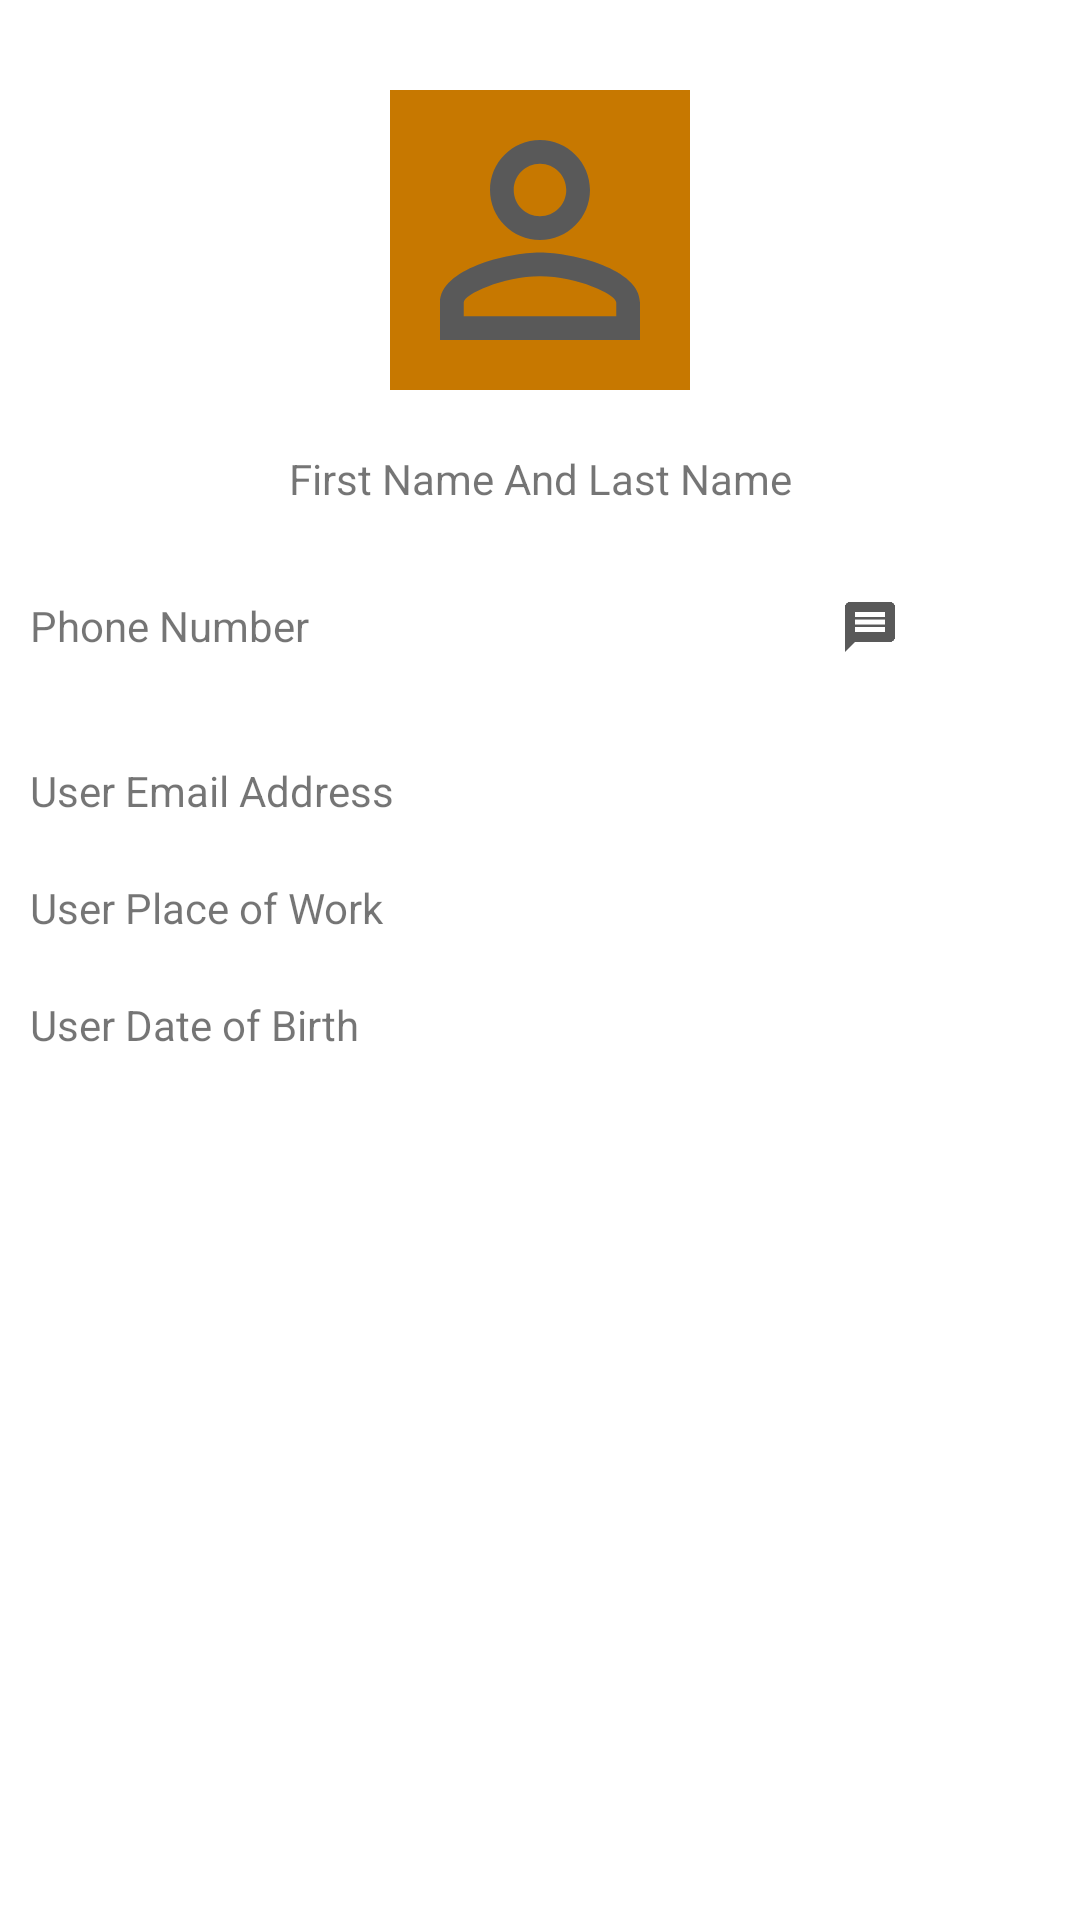

Named icons in this screenshot (1080px x 1920px) and their bounding boxes, (x1=x1, y1=y1, x2=x2, y2=y2):
message: (x1=845, y1=602, x2=895, y2=652)
